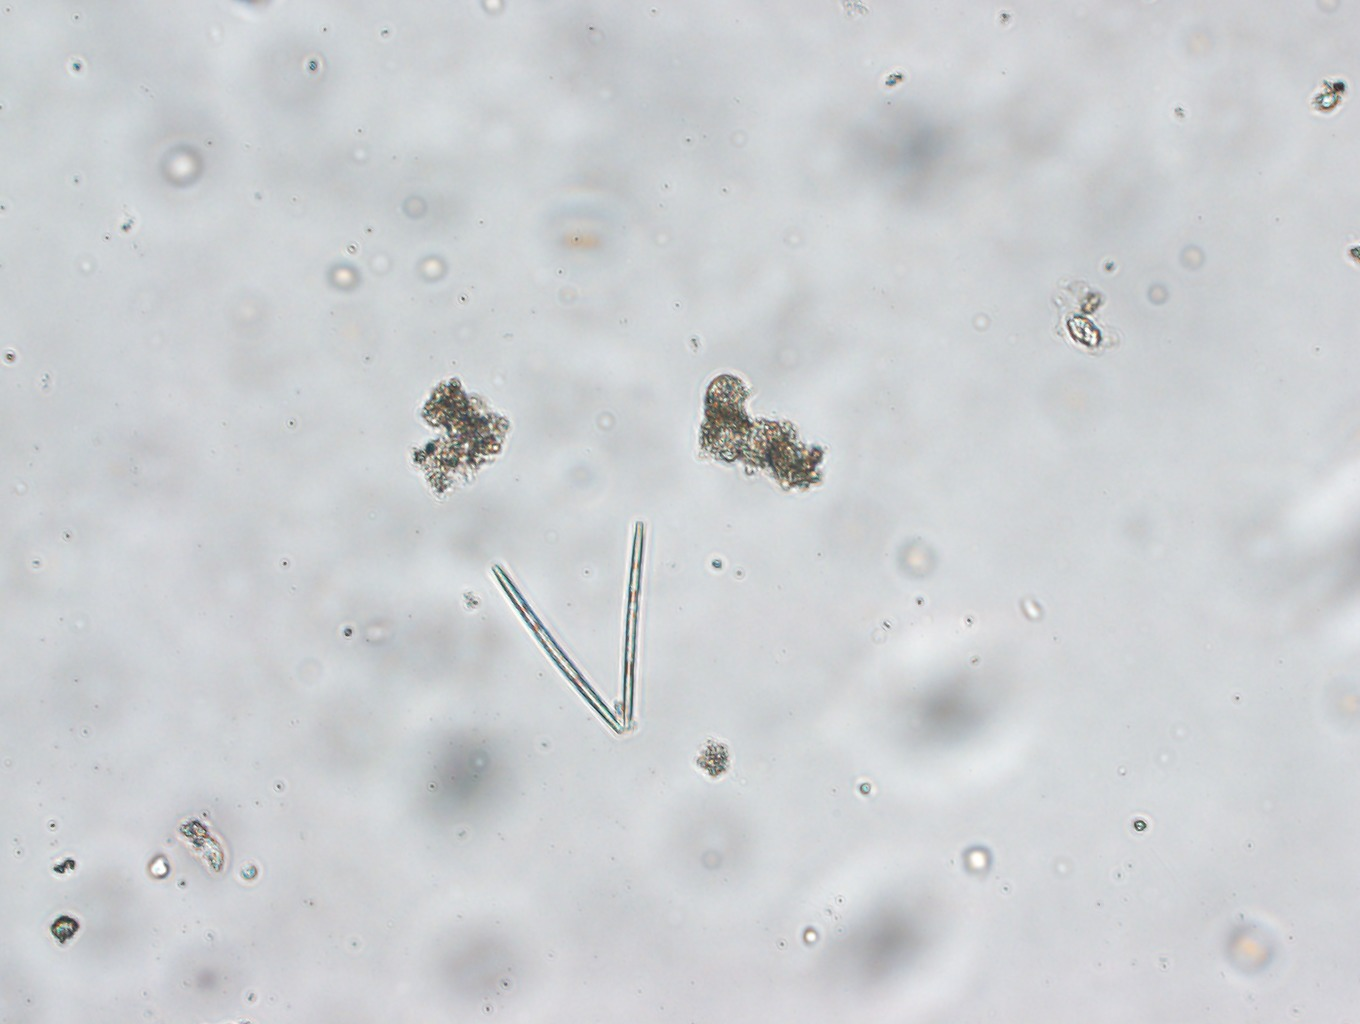thalassionema frauenfeldii: (478, 520, 679, 752)
